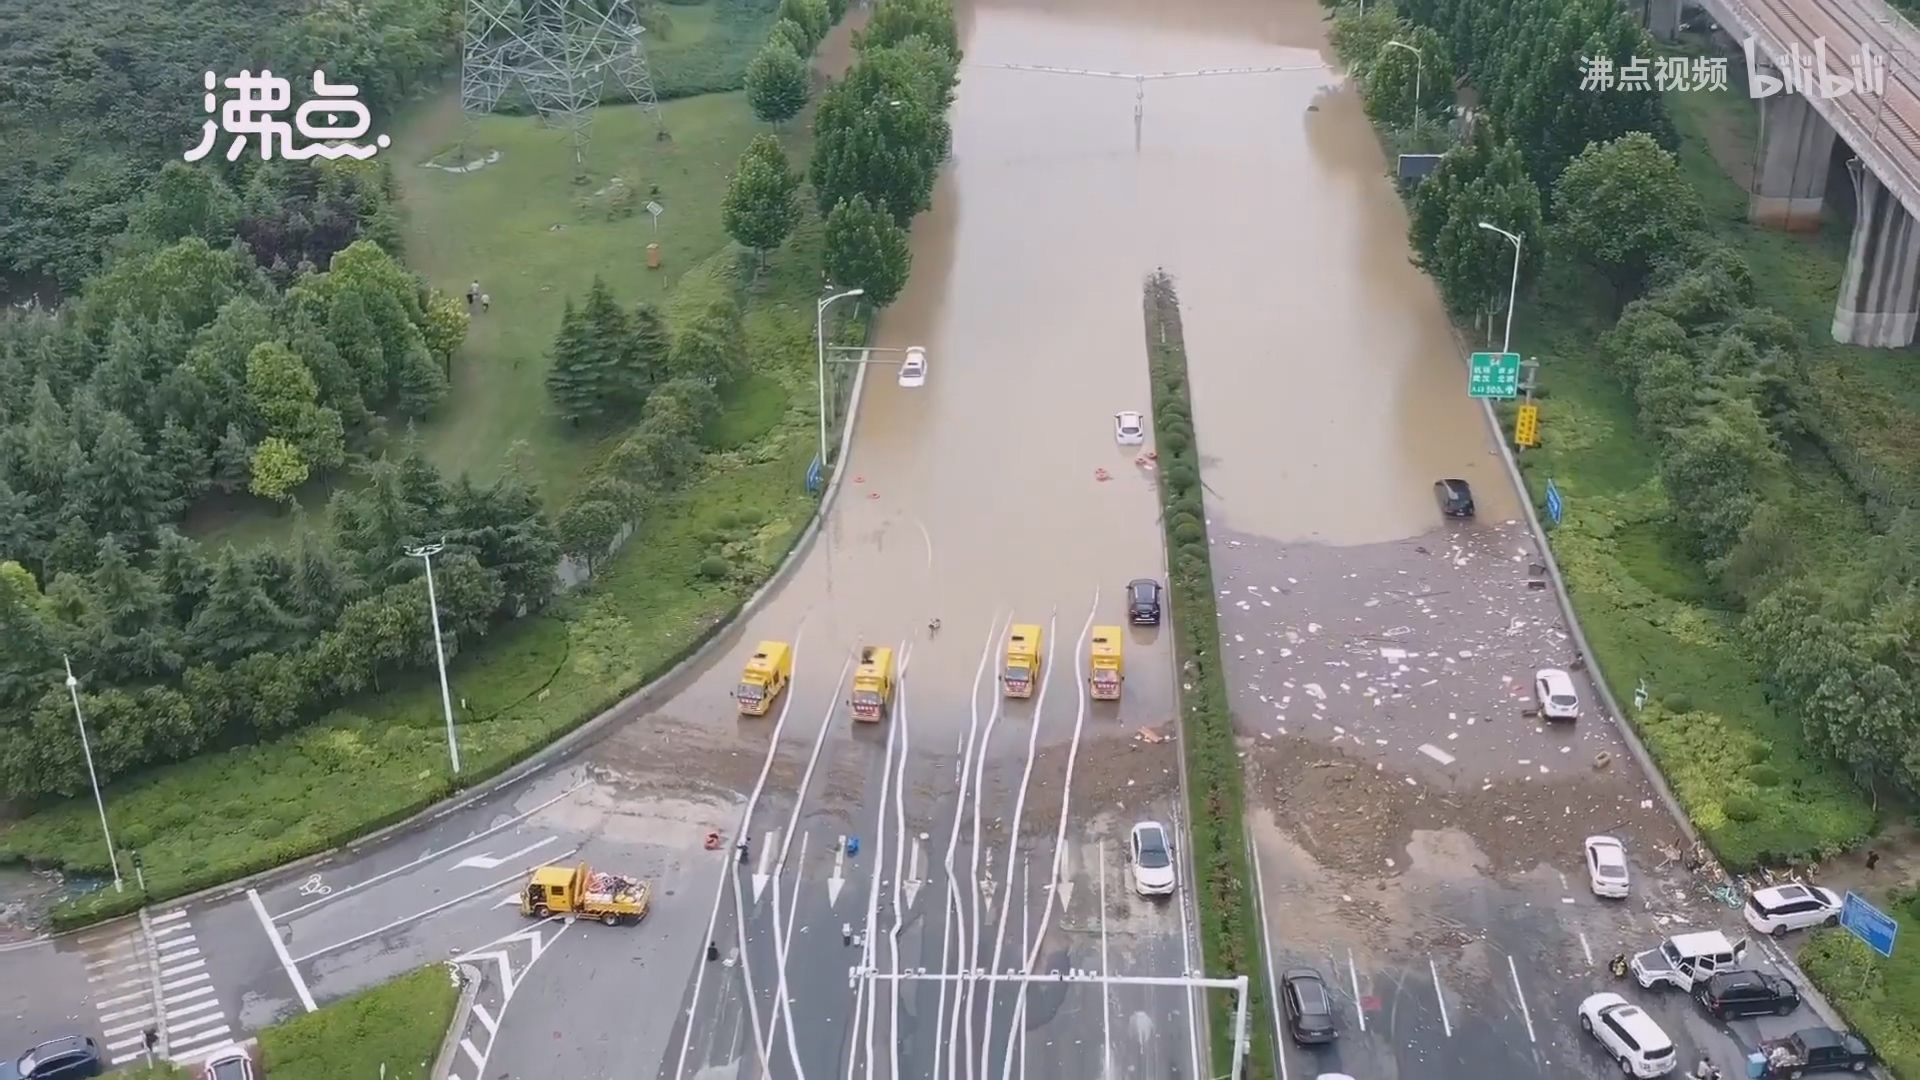puddle: (828, 69, 1477, 640)
